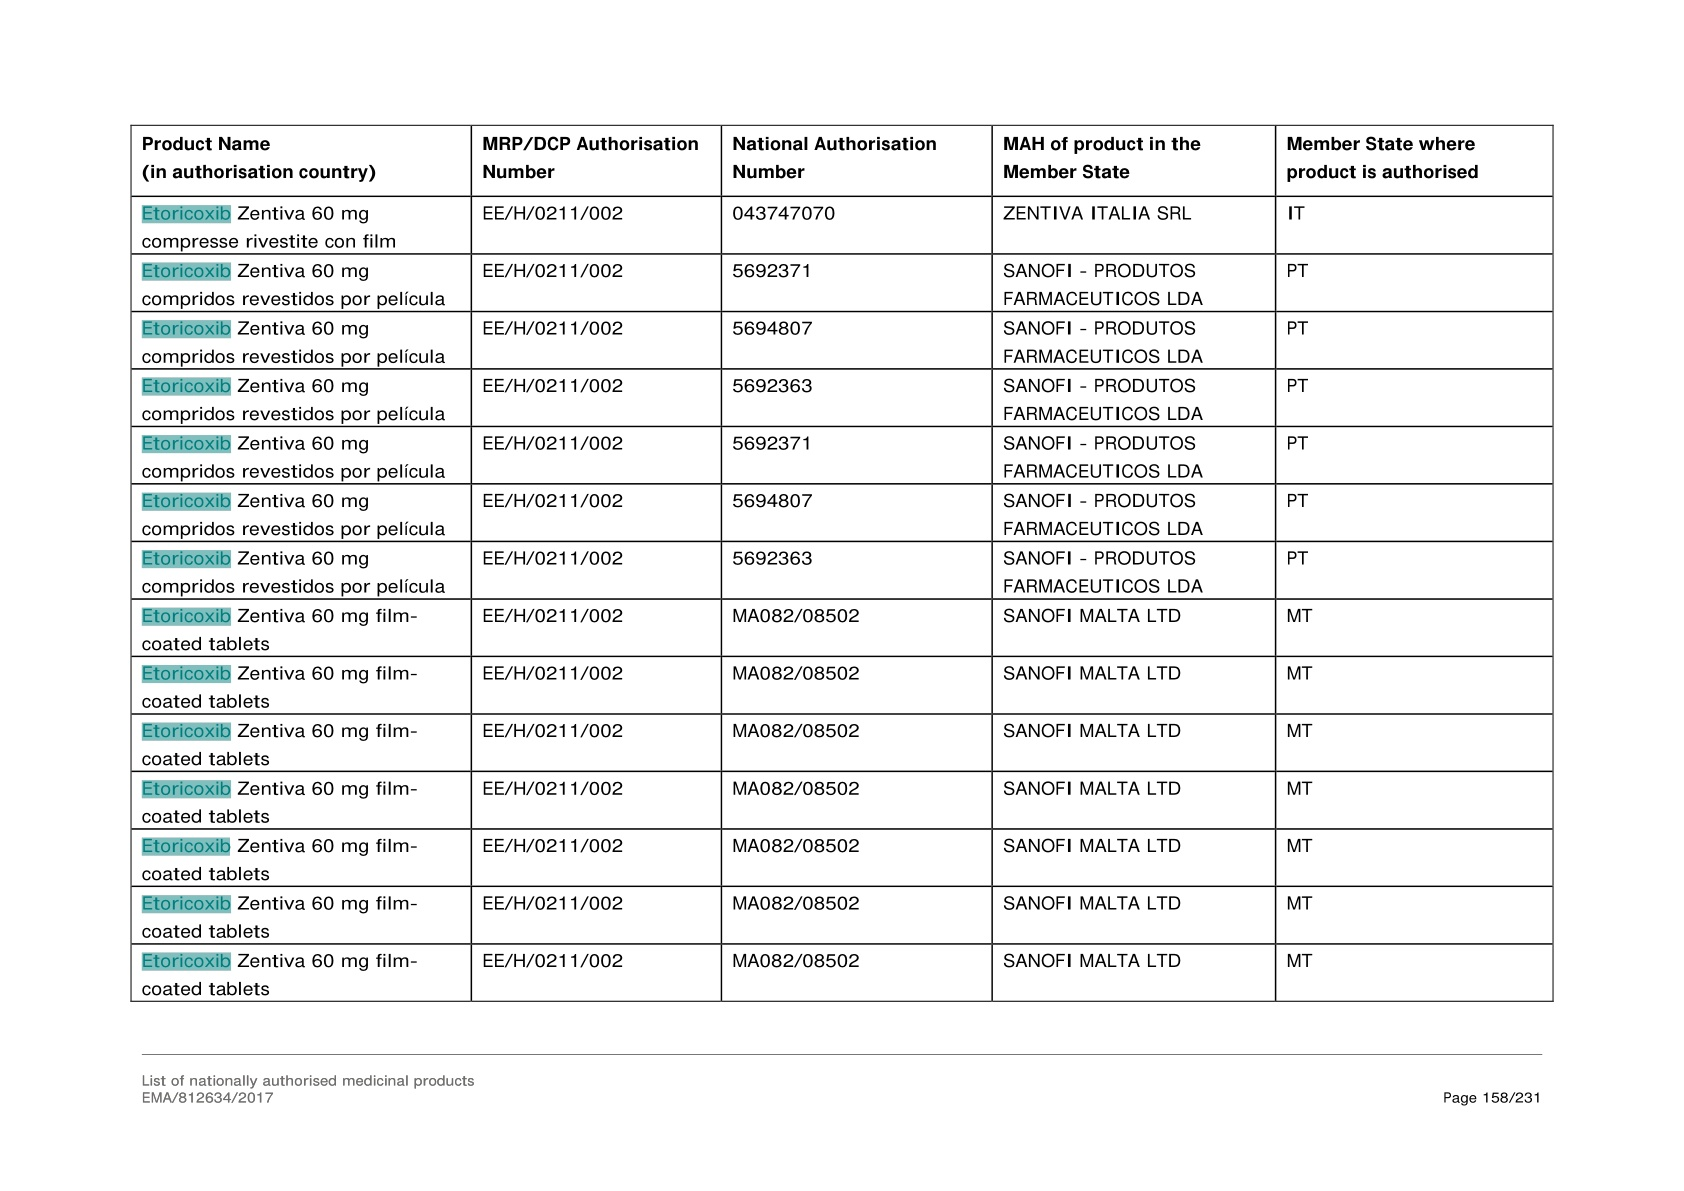full_lined: (129, 122, 1555, 1004)
